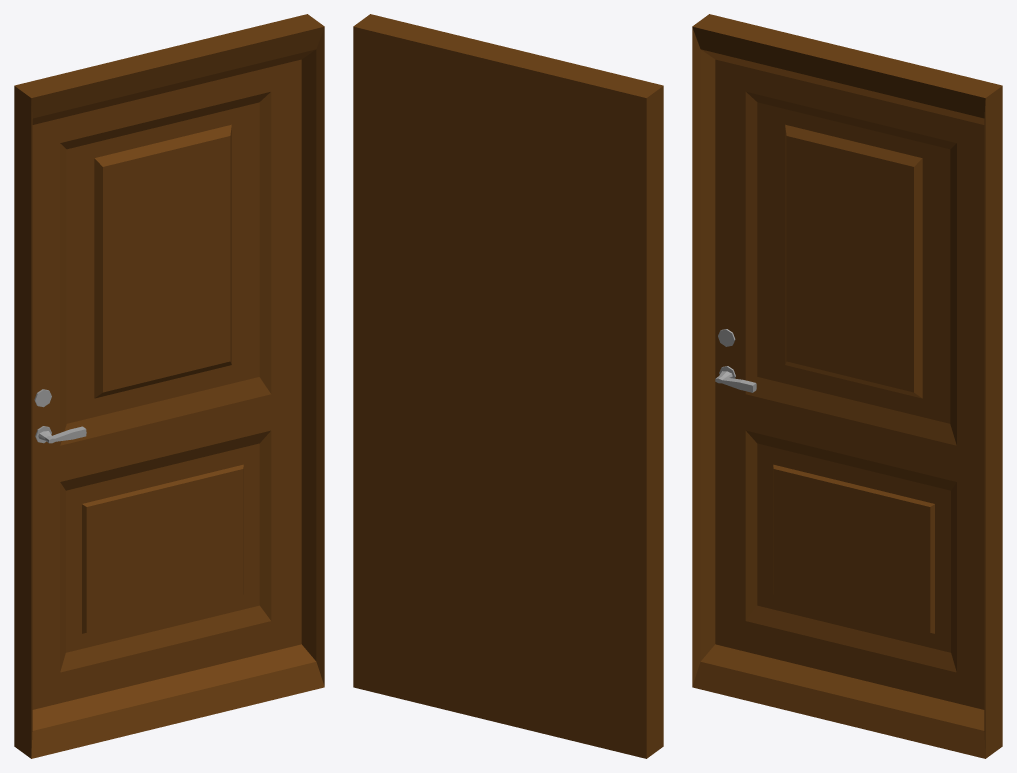
Rendered from Door.fbx.
3 views of the same model, side by side, from view 1: azimuth 30°, elevation 25°; view 2: azimuth 150°, elevation 25°; view 3: azimuth 330°, elevation 25° (orthographic).
Visible parts, largest first — view 1: DoorFlame1; view 2: DoorFlame1; view 3: DoorFlame1.
Part boxes in pixels (box(x1,y1,x2,y2)): DoorFlame1: box(14, 14, 324, 758); DoorFlame1: box(353, 14, 663, 758); DoorFlame1: box(692, 14, 1002, 758).
Bounding box in the file's own units: 1.07 × 2.3 × 0.1086.
